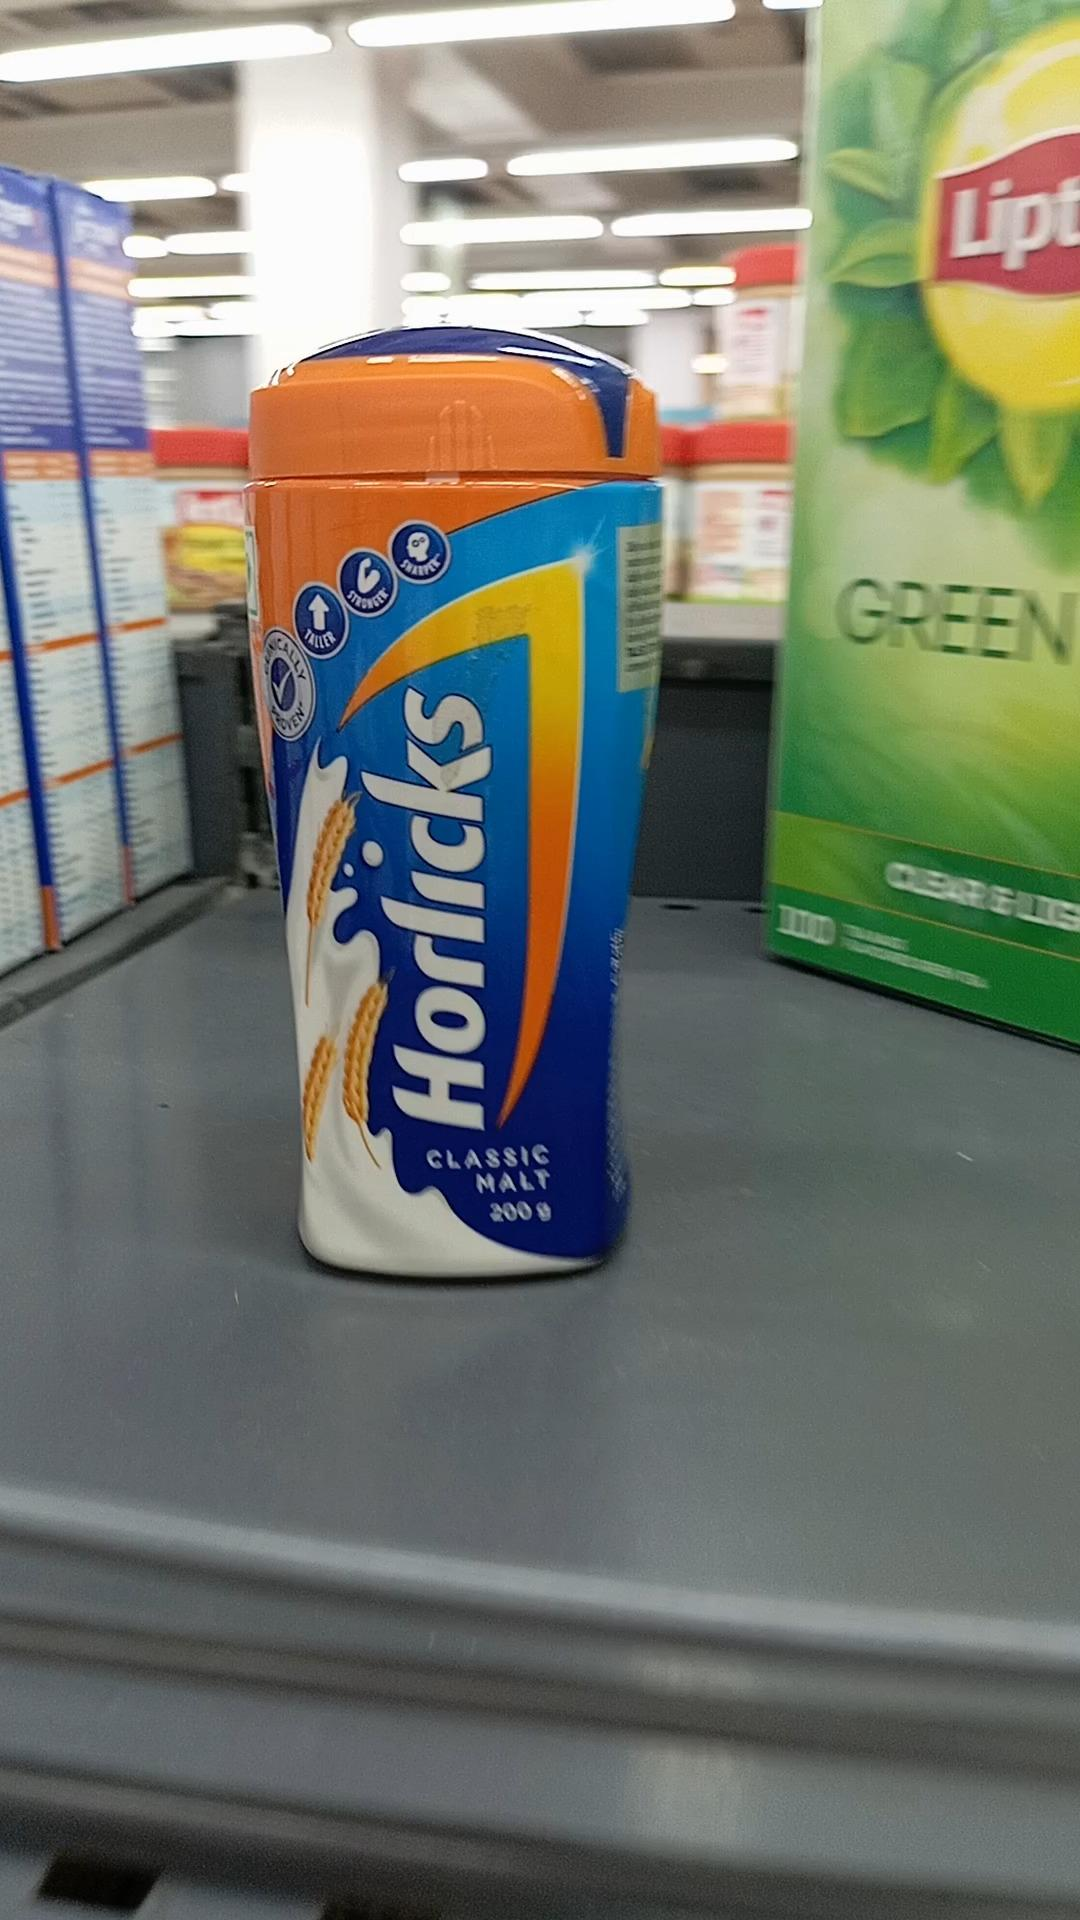HORLICK_CLASSIC_MALT_200_G_JAR: (251, 343, 637, 1278)
